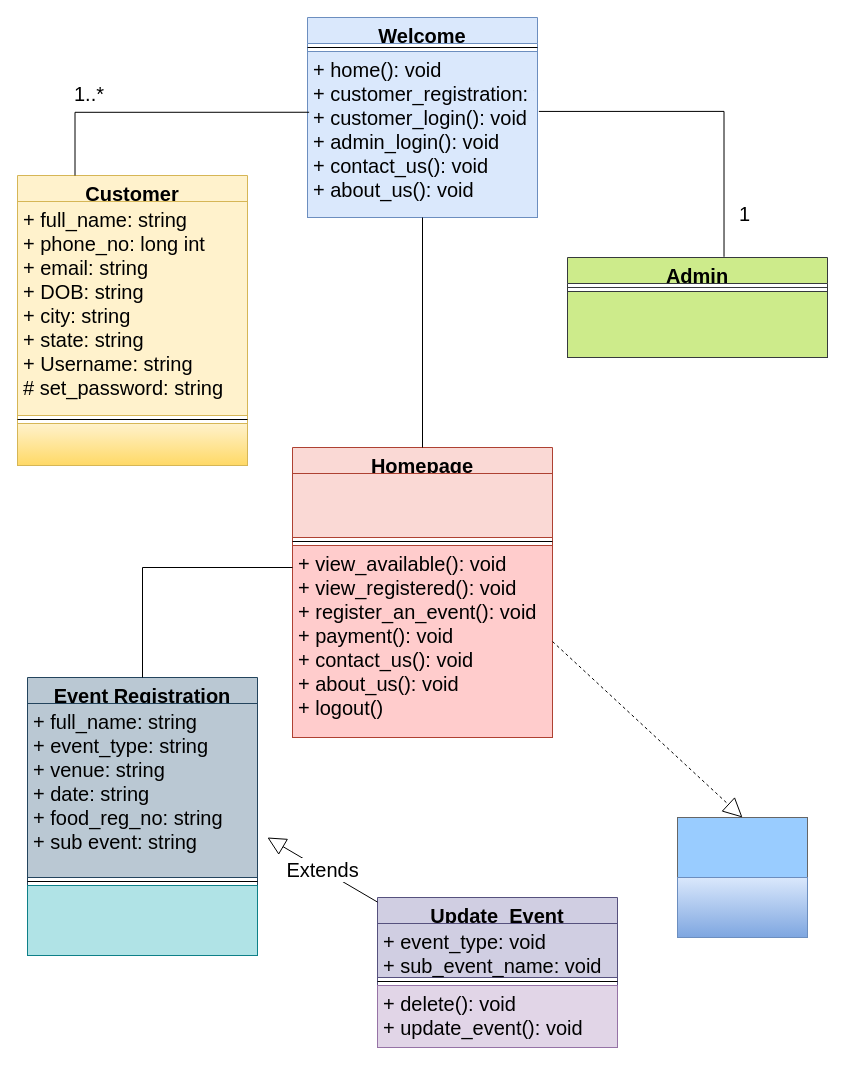
Some shapes in this 845 by 1068 pixel diagram are drawn without their labels. The shapes that lost their labels are listed below. From the top down, each one's centre as x and y in pixels, then its label:
point 697,324: + cancel_event(): void + view_net_amount(): void
point 132,444: + register(): type
point 422,505: + cust_name: string + event_type: string
point 742,847: «interface» LOGOUT
point 142,920: + book_event(): void + make_payment(): void
point 742,907: Logout();
